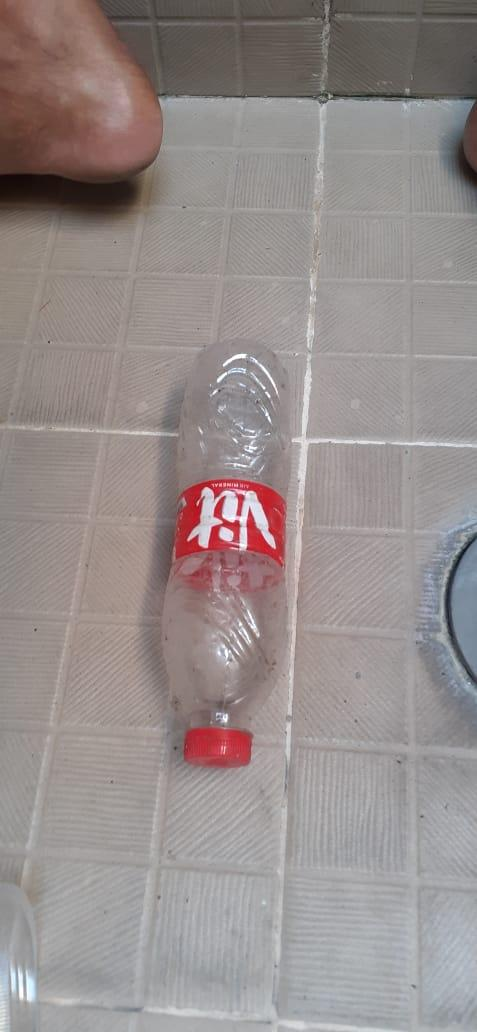Plastik: (161, 339, 295, 770)
